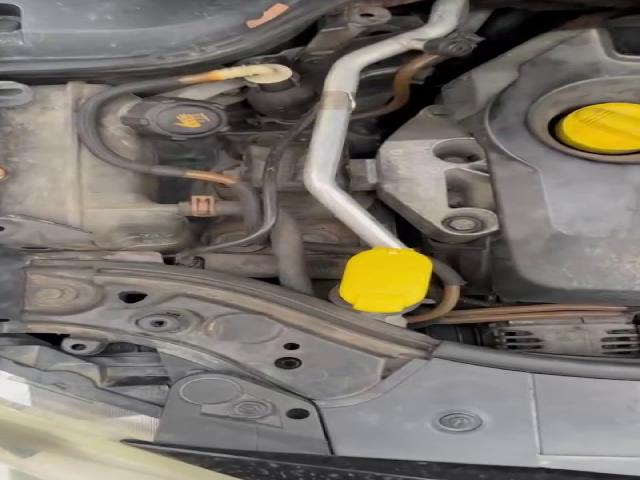antifreeze_tank: (0, 82, 190, 251), (99, 95, 227, 163)
